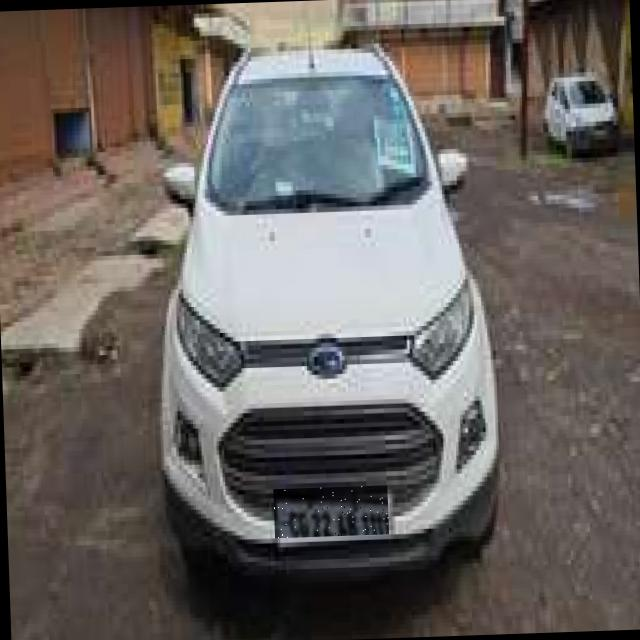Plate: (274, 486, 390, 539)
